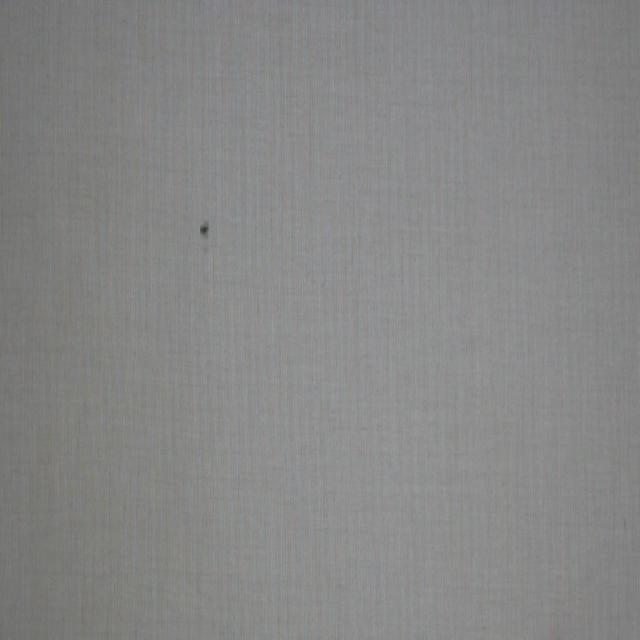dirty: (199, 222, 209, 240)
